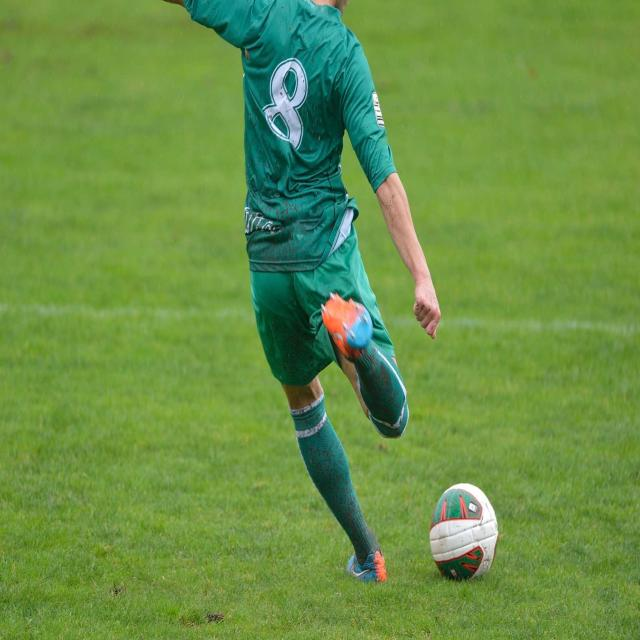soccer ball: (431, 482, 498, 583)
